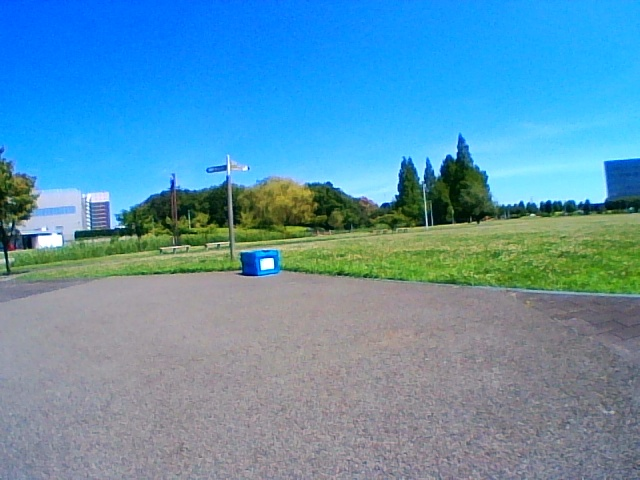blue_box: (241, 249, 279, 277)
tag: (261, 258, 274, 270)
